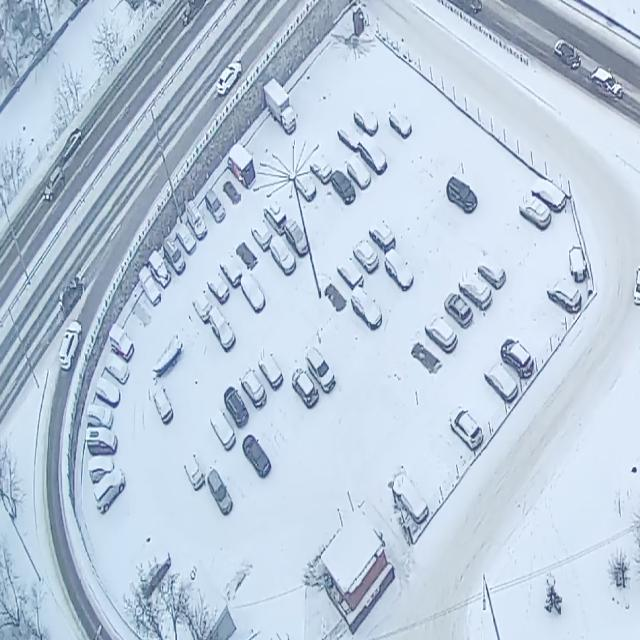car: (391, 472, 430, 528), (261, 77, 298, 136), (446, 403, 484, 454), (422, 308, 459, 357), (135, 547, 172, 596), (482, 359, 520, 406), (544, 275, 582, 320), (305, 344, 337, 396), (351, 283, 384, 333), (94, 465, 125, 517), (500, 337, 535, 382), (226, 142, 257, 191), (517, 191, 552, 234), (440, 288, 474, 332), (458, 270, 492, 314), (242, 431, 272, 480), (205, 466, 233, 518), (384, 246, 414, 294), (531, 174, 567, 214), (590, 63, 622, 108), (269, 232, 298, 280), (368, 212, 398, 258), (446, 174, 478, 216), (208, 305, 236, 353), (56, 321, 82, 372), (475, 254, 507, 295), (290, 366, 319, 411), (239, 367, 268, 411), (56, 273, 86, 315), (209, 408, 236, 454), (181, 442, 205, 493), (359, 135, 388, 177), (352, 234, 380, 277), (256, 349, 284, 392), (283, 214, 310, 258), (337, 253, 365, 295), (222, 386, 250, 428), (240, 270, 266, 315), (83, 426, 119, 458), (552, 38, 582, 76), (290, 162, 317, 204), (346, 150, 372, 192), (161, 236, 187, 278), (109, 324, 136, 364), (331, 166, 357, 207), (183, 199, 208, 241), (219, 249, 244, 291), (214, 62, 243, 98), (148, 248, 172, 291), (353, 100, 380, 138), (152, 382, 174, 428), (173, 218, 198, 258), (202, 187, 227, 227), (264, 196, 288, 237), (206, 267, 231, 306), (139, 266, 162, 308), (387, 105, 413, 142), (338, 120, 364, 157), (310, 148, 334, 188), (190, 287, 214, 326), (94, 376, 122, 409), (43, 166, 66, 206), (105, 352, 131, 386), (58, 127, 83, 162), (249, 218, 273, 254), (88, 457, 116, 485), (87, 402, 114, 430)
